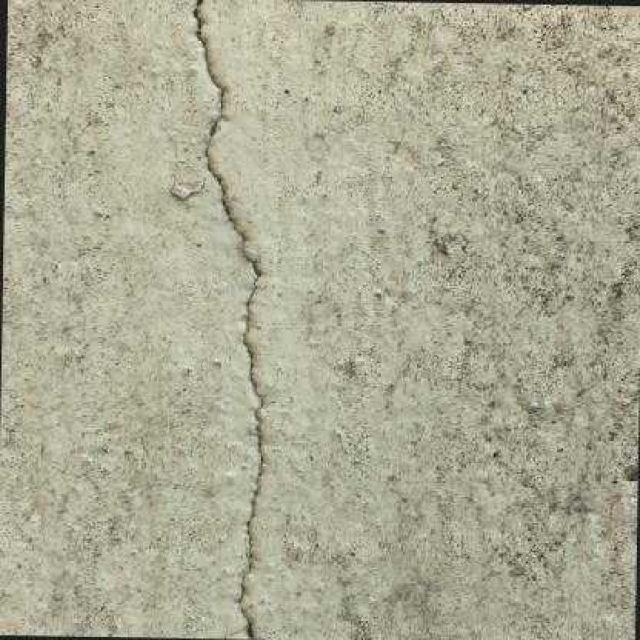D00: (191, 0, 261, 639)
